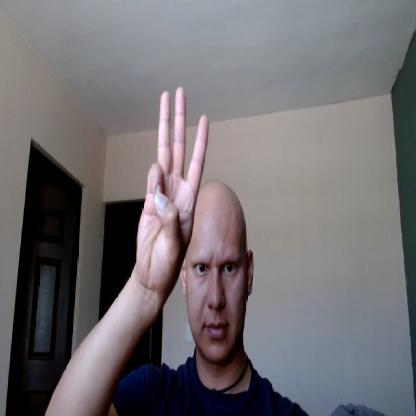W: (135, 86, 208, 286)
